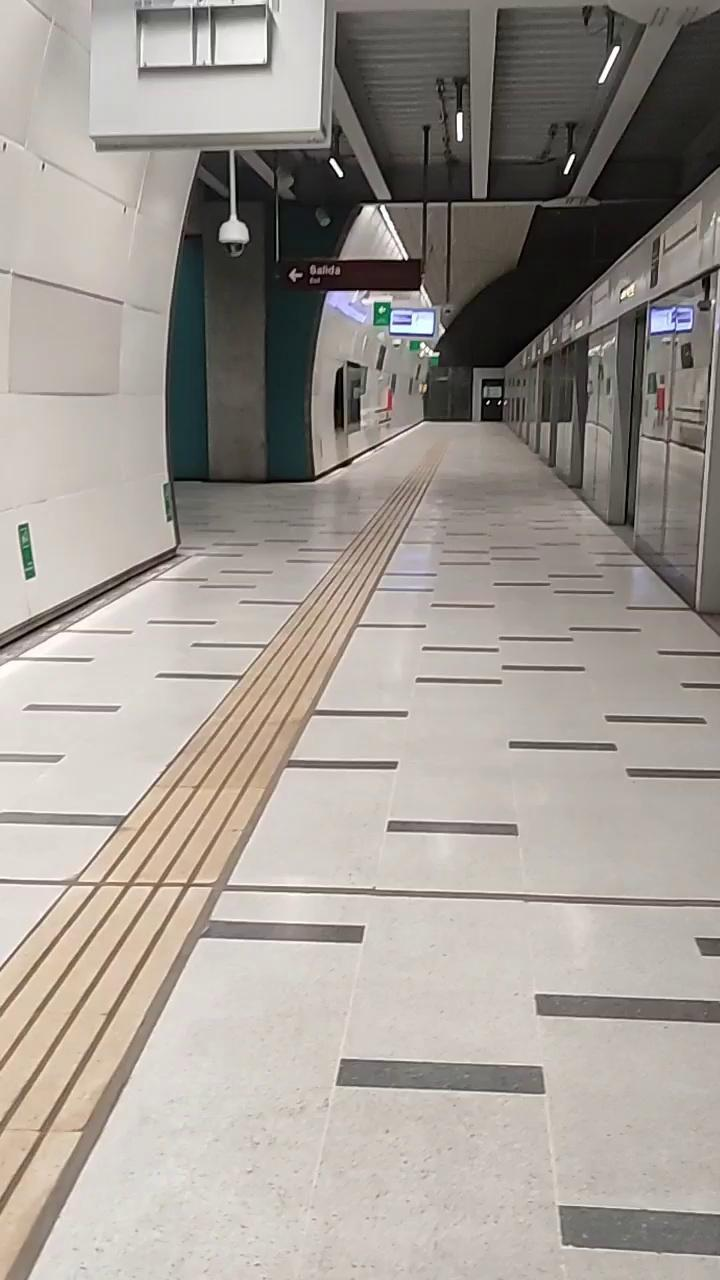left arrow: (288, 269, 306, 285)
